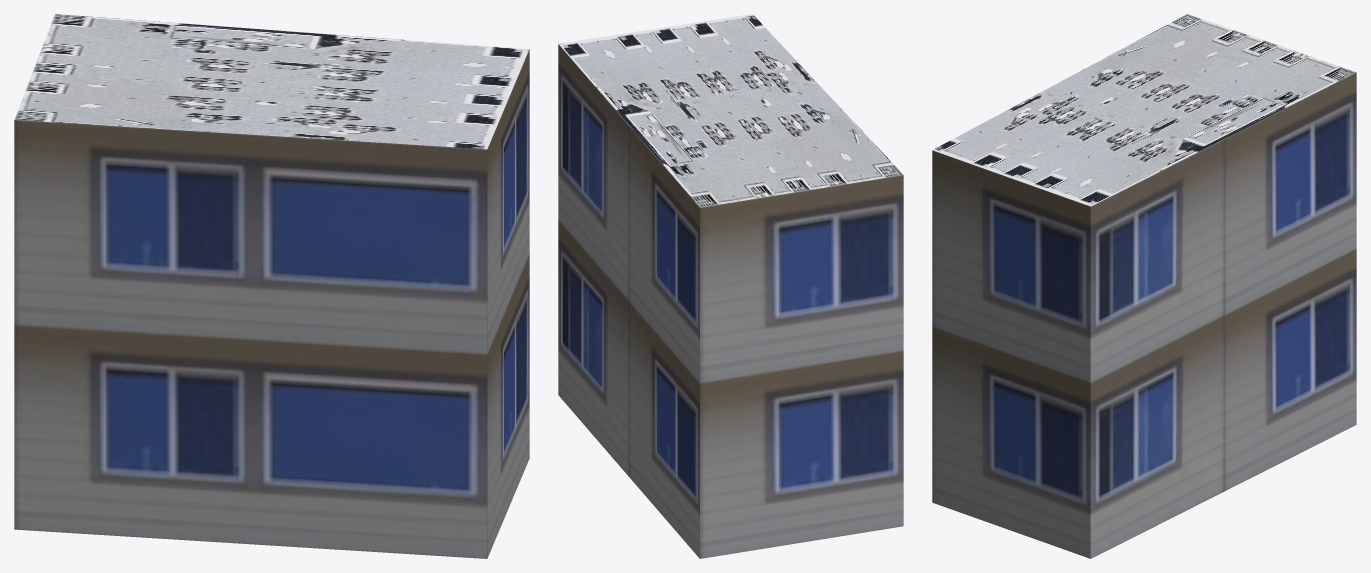
File: ResTex__3250.fbx
3 views of the same model, side by side, from view 1: azimuth 30°, elevation 25°; view 2: azimuth 150°, elevation 25°; view 3: azimuth 270°, elevation 25° (orthographic). The views are drawn at different scales.
Parts seen in each view (by area): view 1: CityEngineMaterial_23_m, CityEngineMaterial_8_m; view 2: CityEngineMaterial_23_m, CityEngineMaterial_8_m; view 3: CityEngineMaterial_23_m, CityEngineMaterial_8_m.
Part boxes in pixels (x1,y1,x2,y2): CityEngineMaterial_23_m: [14, 49, 529, 558]; CityEngineMaterial_8_m: [14, 14, 529, 149]; CityEngineMaterial_23_m: [558, 44, 903, 558]; CityEngineMaterial_8_m: [558, 14, 903, 207]; CityEngineMaterial_23_m: [932, 72, 1356, 558]; CityEngineMaterial_8_m: [932, 14, 1356, 206].
Bounding box in the file's own units: 7.04 × 6 × 6.55.
2 materials, 2 textured.
